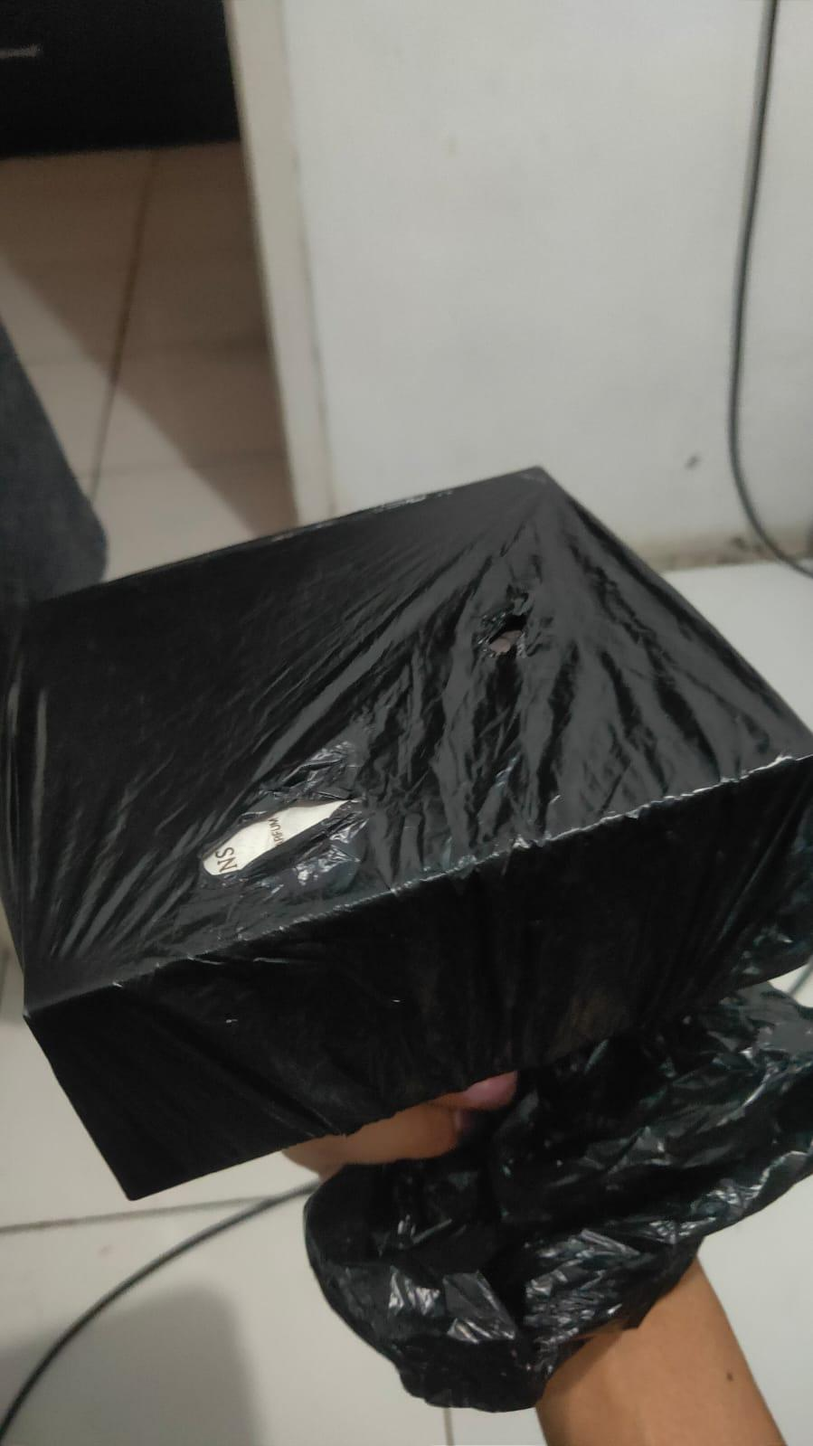damaged package: (177, 781, 374, 894), (468, 598, 544, 668)
undamaged: (0, 455, 811, 1214)
